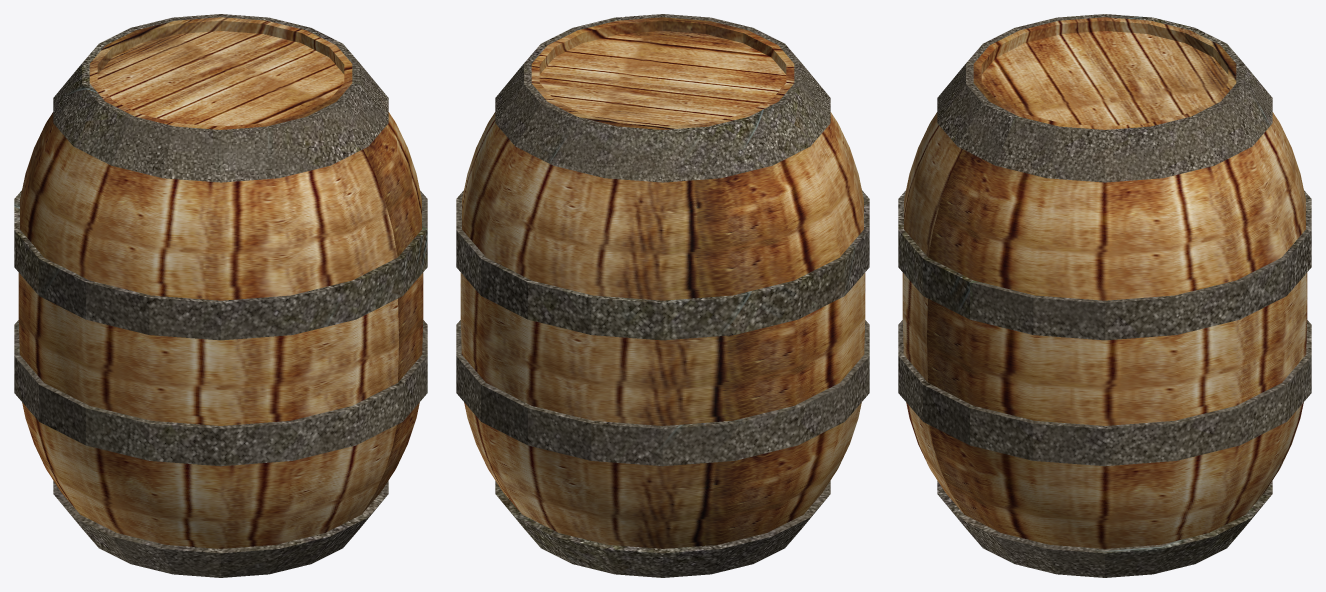
File: Barril.FBX
3 renders of one model, left to right at view 1: azimuth 30°, elevation 25°; view 2: azimuth 150°, elevation 25°; view 3: azimuth 270°, elevation 25°, orthographic.
Parts seen in each view (by area): view 1: Cylinder002; view 2: Cylinder002; view 3: Cylinder002.
Boxes of the visible parts, <box> form: Cylinder002: <box>14,14,427,577</box>; Cylinder002: <box>456,14,869,577</box>; Cylinder002: <box>898,14,1311,577</box>.
Size of the model in its own units: 102 by 119 by 100.
